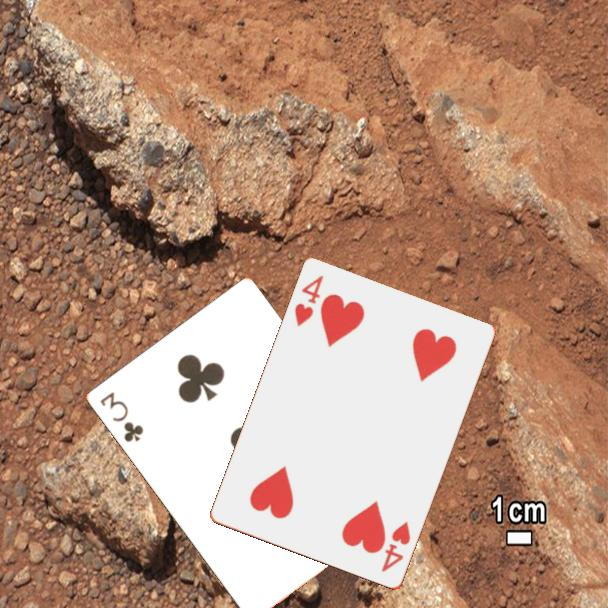c03: (96, 388, 146, 445)
h04: (291, 272, 327, 331), (378, 518, 414, 575)
